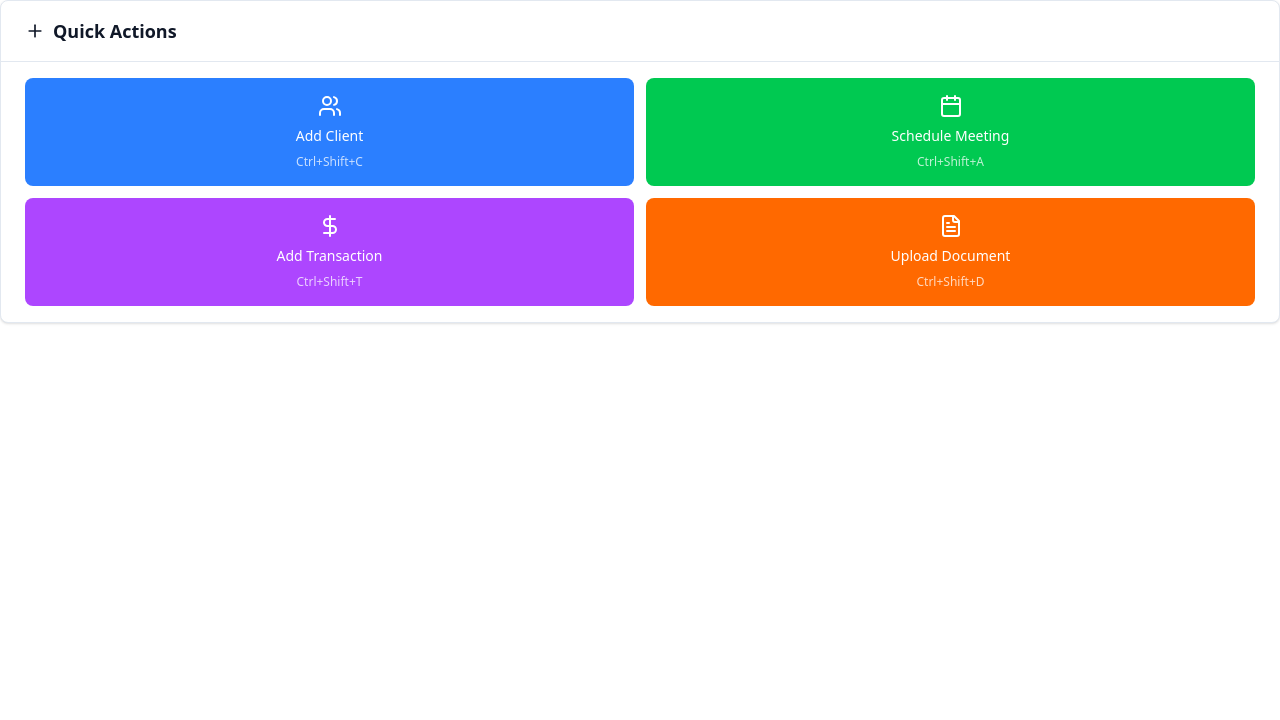
Test: QuickActions › Client Modal › closes client modal when X button is clicked
Click the button "Add Client Ctrl+Shift+C".
click(330, 132)  # box [25,78,634,186]
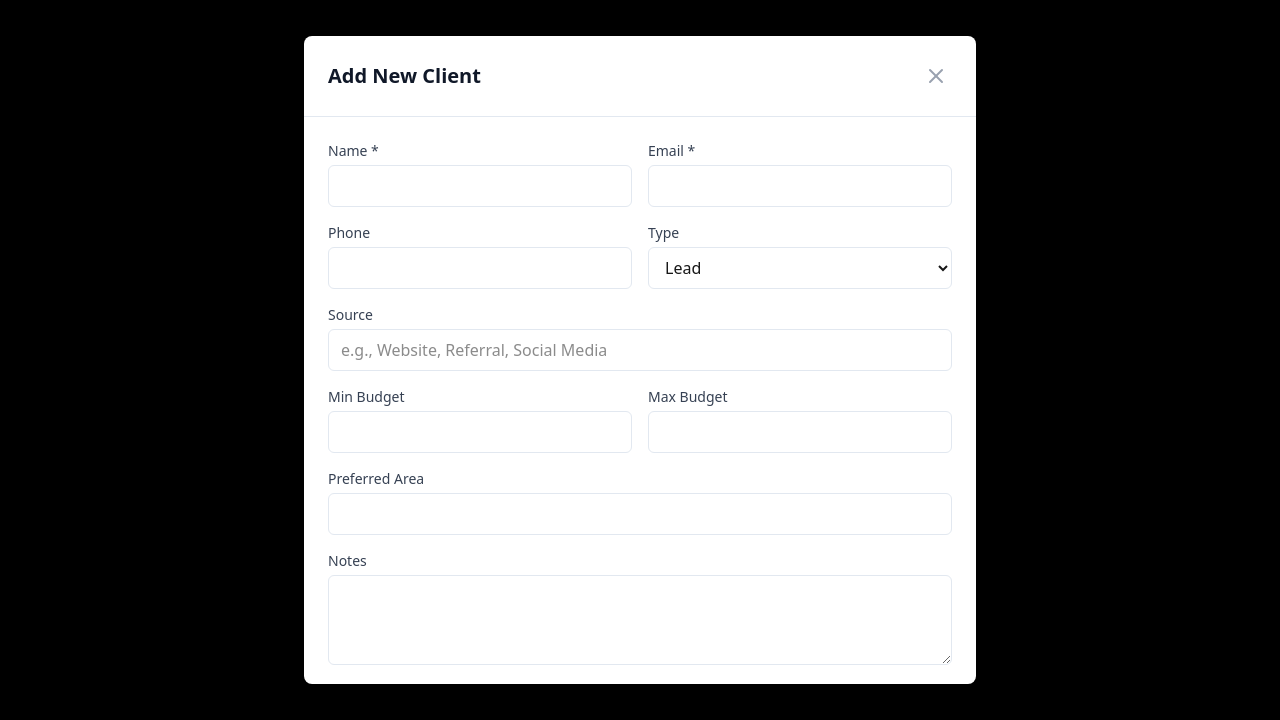
Click the button named "close modal".
click(936, 76)  # box [920,60,952,92]
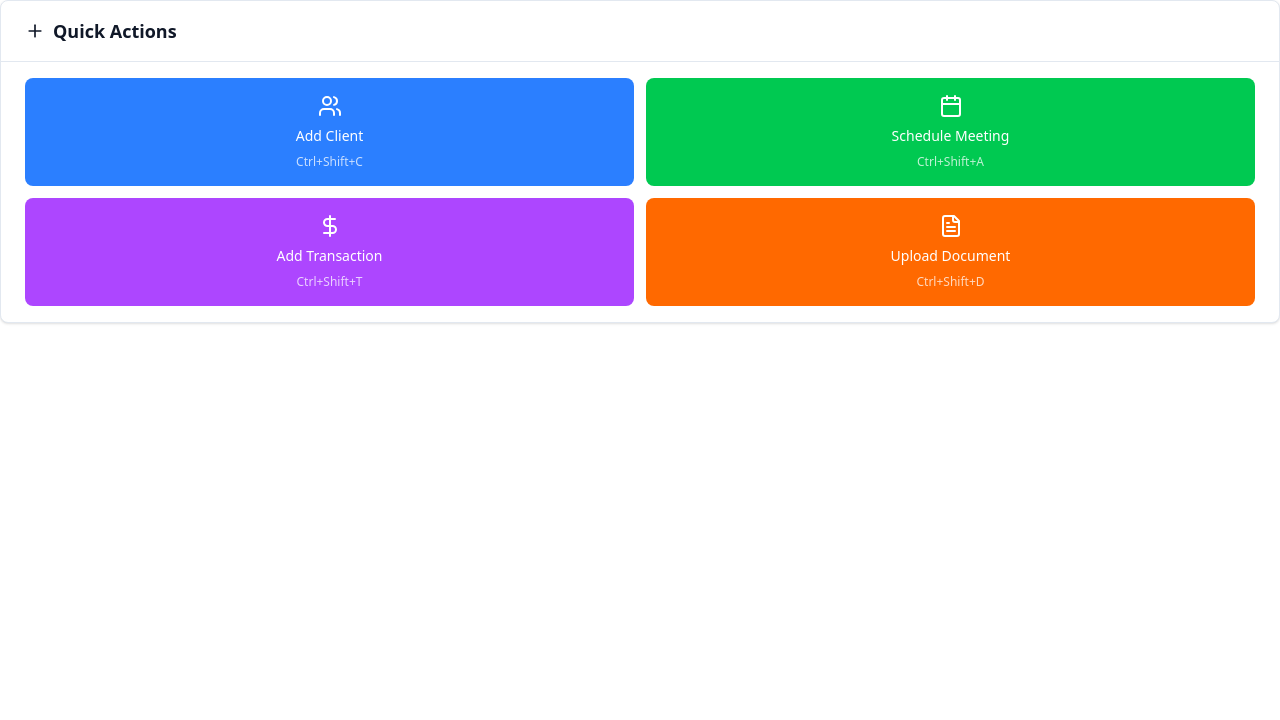
Expected: the heading "Add New Client" is gone
